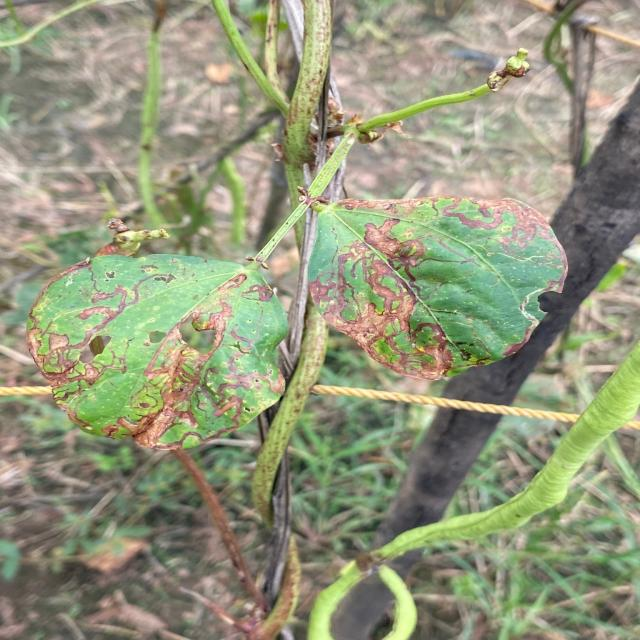leaf-moderate: (26, 228, 288, 450), (309, 197, 567, 379)
sitaw-aphid-moderate: (278, 0, 349, 209), (318, 161, 344, 202)
sitaw-healthy: (308, 341, 640, 640)
